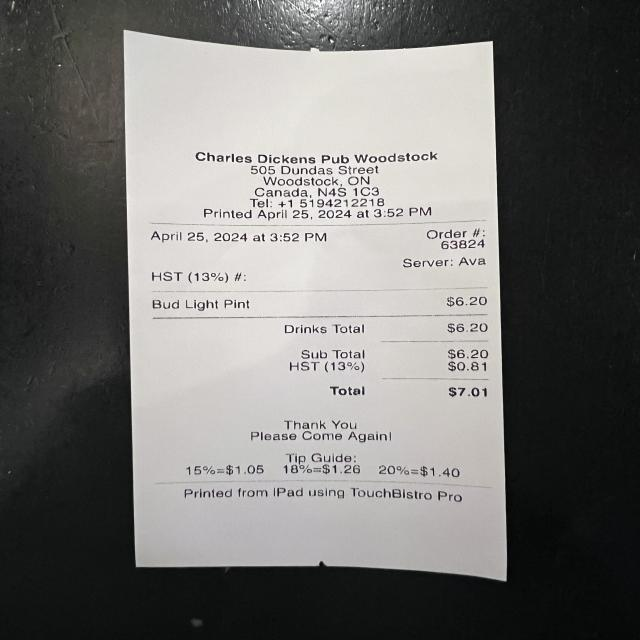item: (146, 291, 494, 313)
store_name: (188, 147, 446, 167)
total_amount: (323, 382, 493, 402)
transaction_date: (145, 227, 251, 247)
